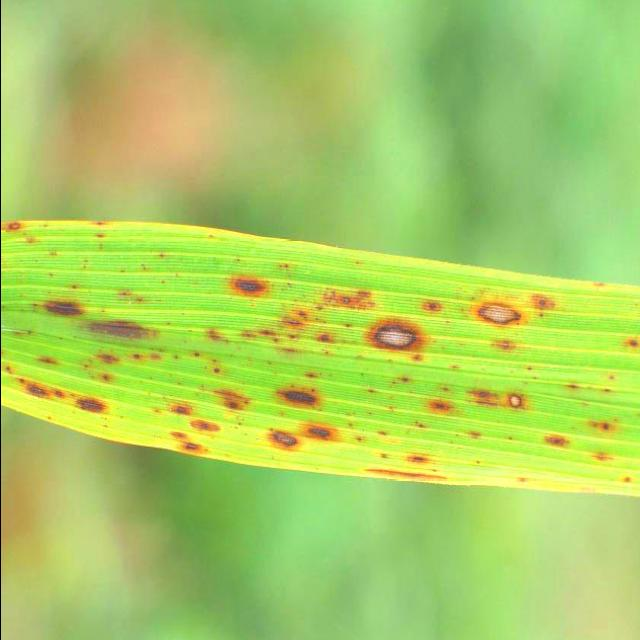Brown_Spot: (76, 302, 162, 352), (372, 319, 432, 359), (278, 375, 332, 413), (470, 297, 527, 331), (12, 371, 72, 402), (72, 390, 118, 430), (225, 268, 278, 302), (36, 287, 81, 327), (216, 382, 260, 422), (300, 417, 348, 449), (425, 388, 461, 428), (532, 284, 564, 322), (266, 428, 306, 453), (582, 405, 622, 429), (190, 413, 228, 435), (400, 442, 438, 464), (364, 466, 452, 475), (505, 381, 527, 416), (172, 438, 213, 456), (170, 395, 198, 421), (544, 428, 572, 448), (592, 446, 616, 468), (0, 212, 22, 236), (622, 328, 640, 354), (621, 476, 634, 484)
